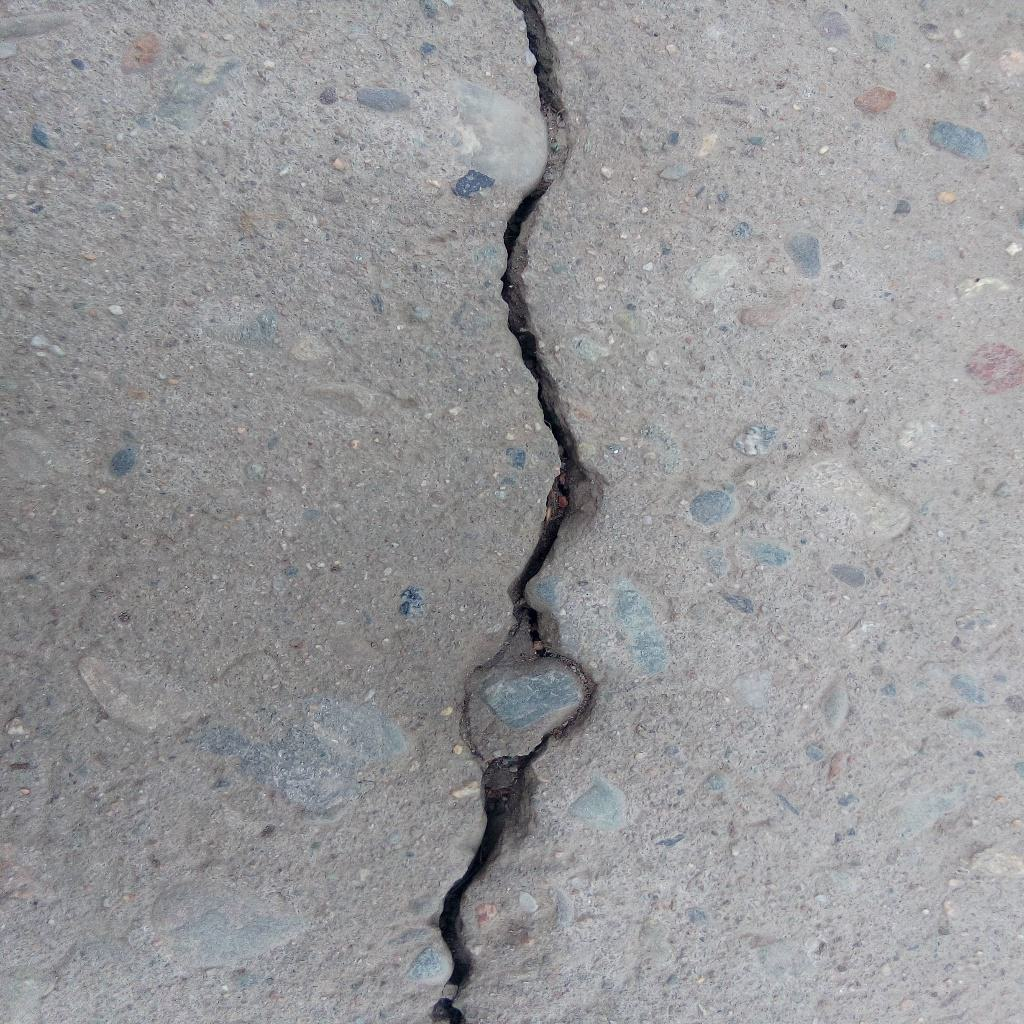Crack: (430, 1, 603, 1024)
